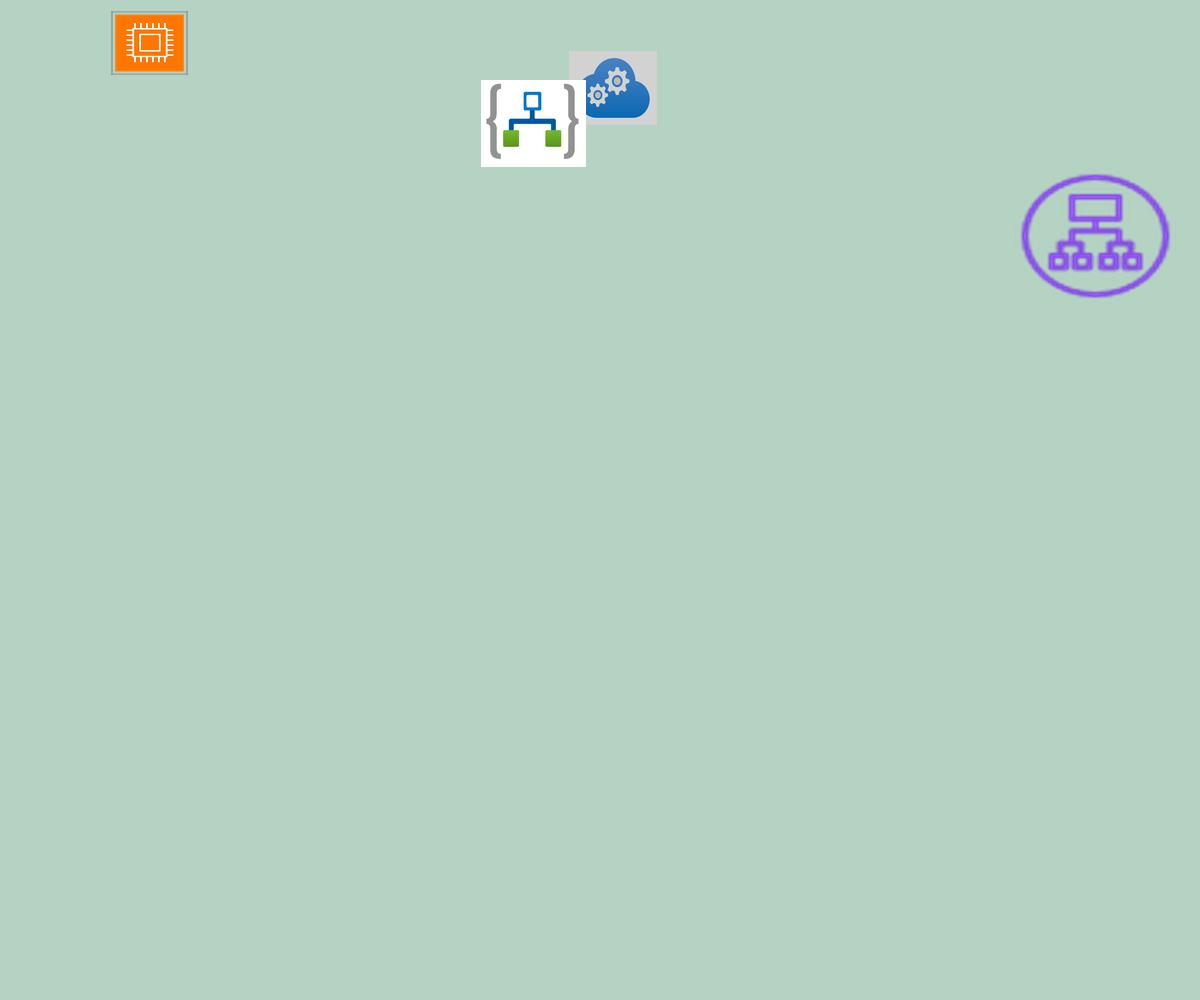AWS-Category_Compute: (111, 11, 188, 75)
AWS-Res_Elastic-Load-Balancing_Application-Load-Balancer: (1015, 169, 1176, 303)
Azure_cloud_services: (569, 51, 657, 125)
Azure_integration-204-Logic-Apps: (481, 80, 586, 167)
